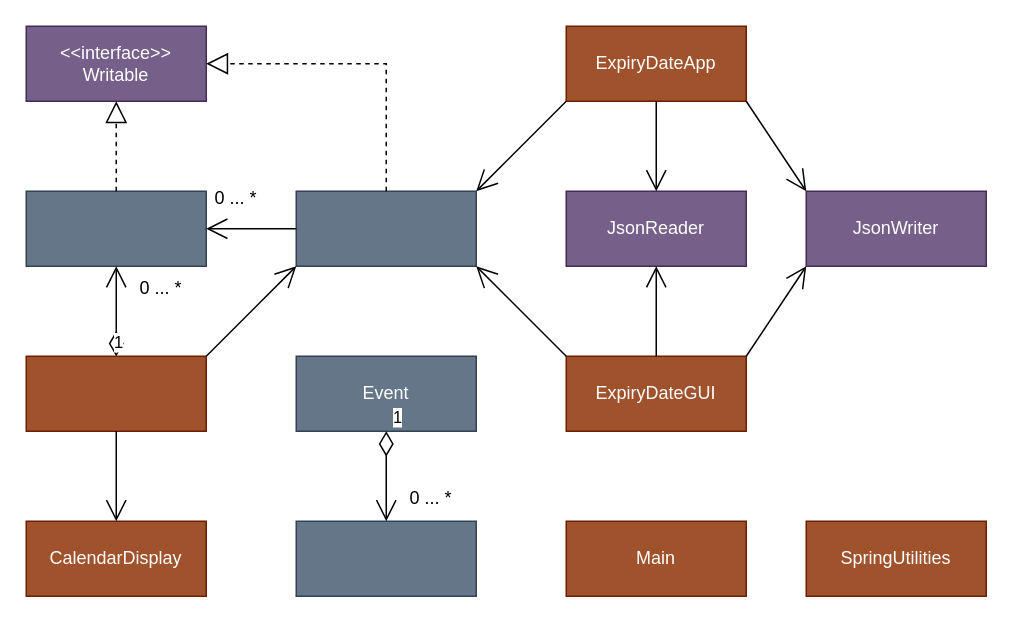
Image size: 1013x623. Some labels were removed from this diagram. The centre of each missing label's shape, as x and y in pixels:
"Calendar" goes at [385,228].
"EventLog" goes at [385,558].
"Food" goes at [115,228].
"FoodList" goes at [115,393].
